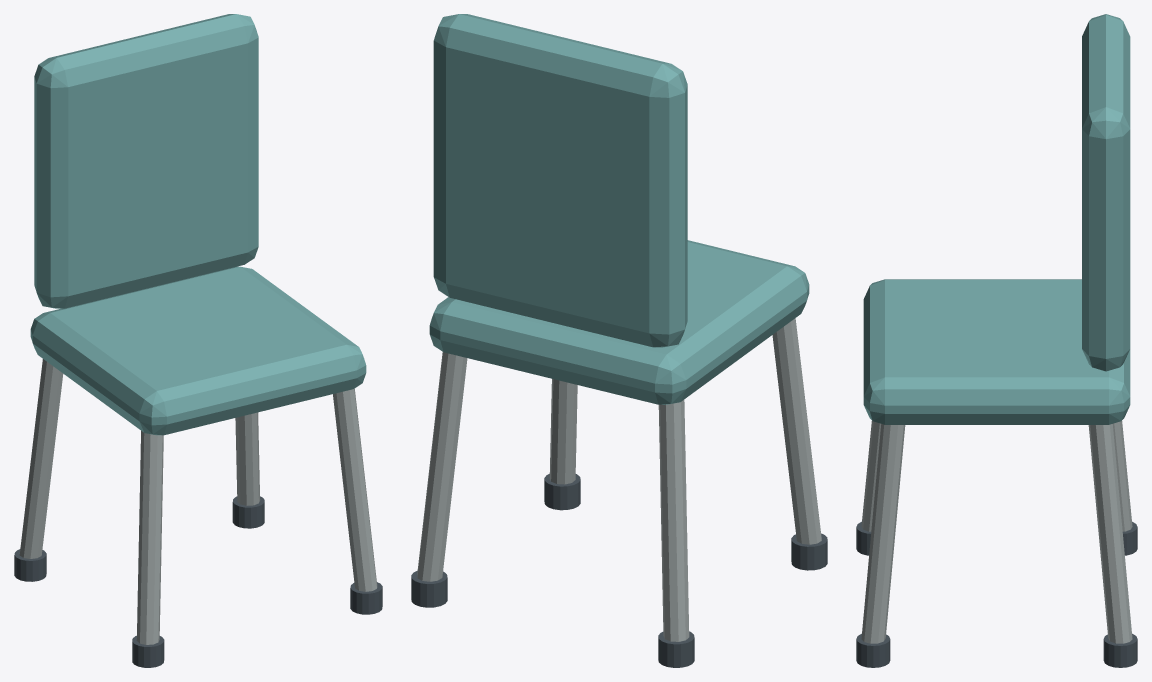
File: reception_T1_chair.glb
3 renders of one model, left to right at view 1: azimuth 30°, elevation 25°; view 2: azimuth 150°, elevation 25°; view 3: azimuth 270°, elevation 25°, orthographic. The views are drawn at different scales.
Visible parts, largest first — view 1: reception_T1_chair__Static_Assembly; view 2: reception_T1_chair__Static_Assembly; view 3: reception_T1_chair__Static_Assembly.
Part boxes in pixels (x1,y1,x2,y2): reception_T1_chair__Static_Assembly: (14, 14, 382, 667); reception_T1_chair__Static_Assembly: (411, 14, 827, 667); reception_T1_chair__Static_Assembly: (856, 14, 1137, 667).
Bounding box in the file's own units: 0.493 × 0.99 × 0.464.
